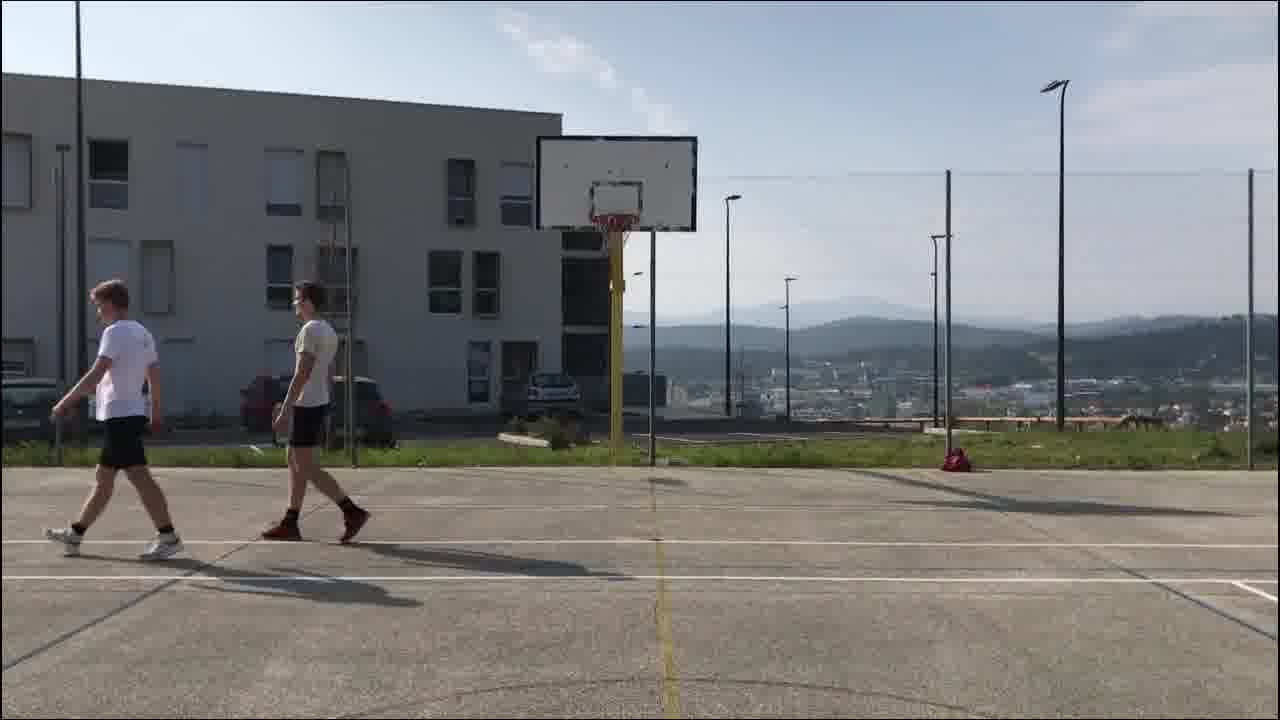jugador: (237, 270, 378, 550)
